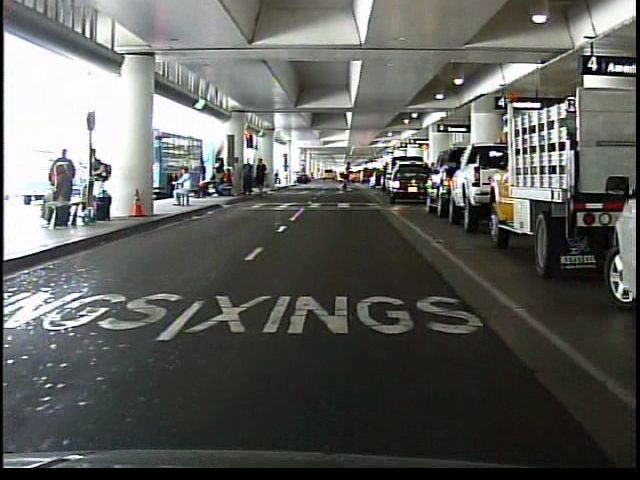person: (169, 169, 197, 211), (336, 159, 357, 192), (196, 156, 210, 199)
